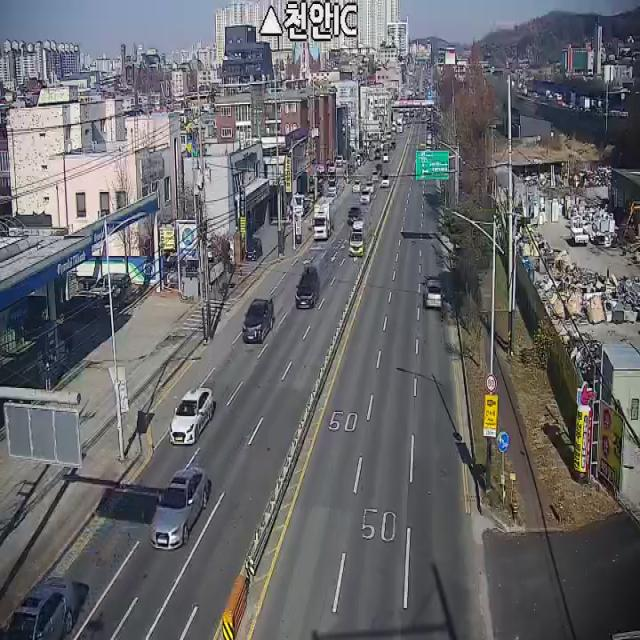Car: (150, 467, 208, 551), (6, 574, 75, 640), (168, 387, 214, 445), (242, 297, 274, 344), (90, 273, 132, 302), (295, 267, 320, 310), (426, 278, 444, 308), (245, 238, 263, 262), (348, 206, 362, 225), (360, 189, 371, 205), (352, 180, 362, 193), (364, 181, 374, 193), (381, 175, 390, 188), (370, 170, 380, 181), (382, 152, 389, 163)
Truck: (312, 198, 334, 240), (348, 221, 366, 257), (570, 218, 589, 246)
